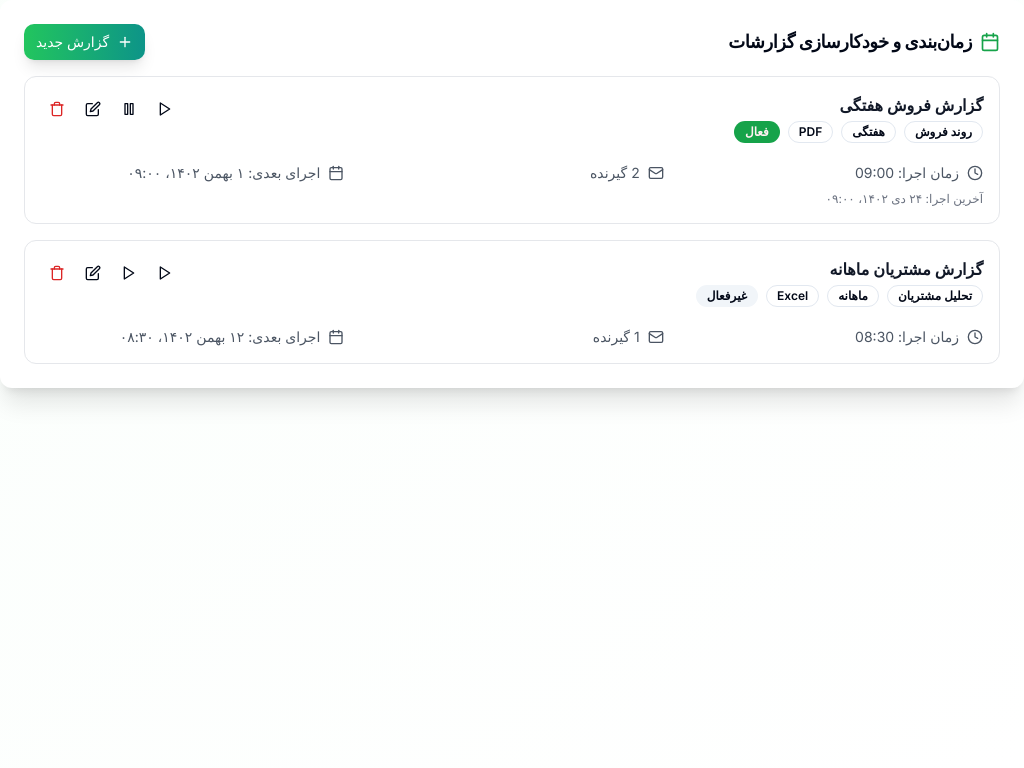
Test case: ReportSchedulingInterface › handles editing existing report
Check: the heading "گزارش فروش هفتگی" is shown, box [840,95,983,115]
Click edit button
Click the button titled "ویرایش" in the row of "گزارش فروش هفتگی" at (93, 109), box [77,93,109,125]
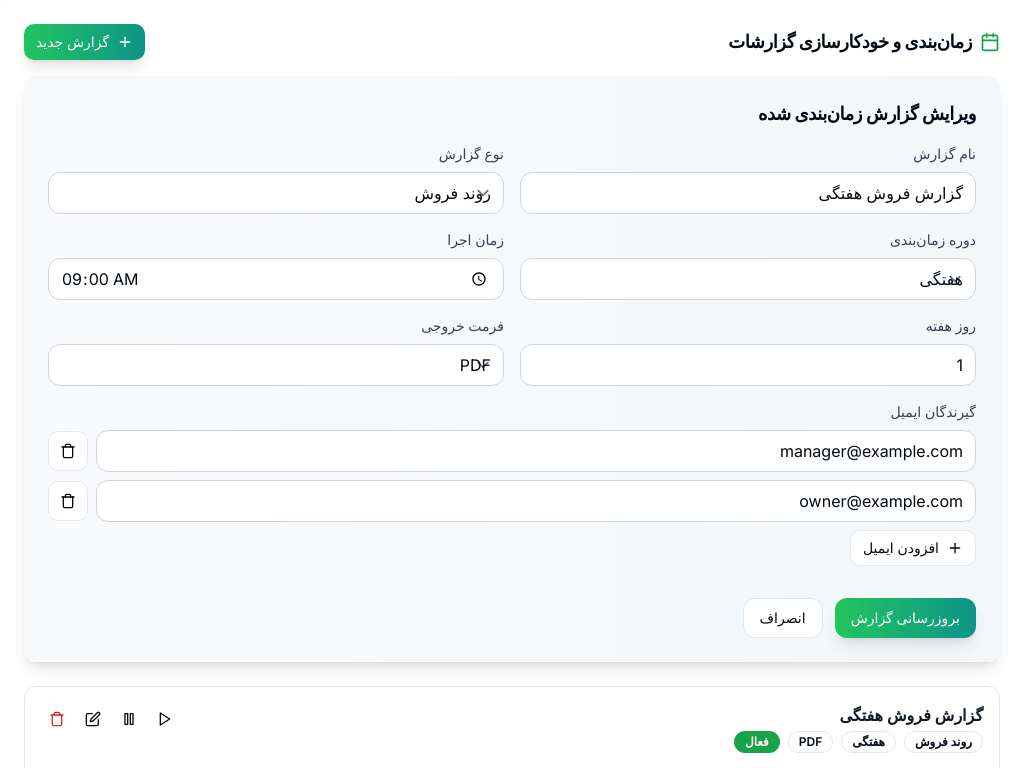
Check: the heading "ویرایش گزارش زمان‌بندی شده" is shown, box [758,103,976,124]
Check: the field showing "گزارش فروش هفتگی" below "نام گزارش" is shown, box [520,172,976,214]
